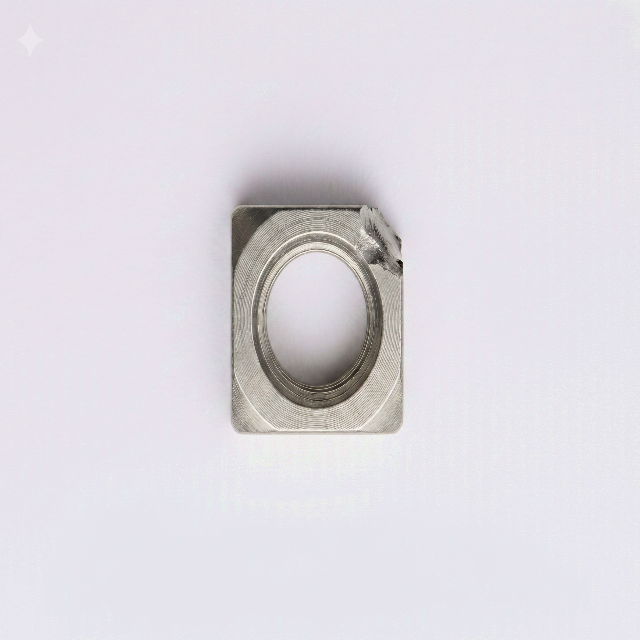defect: (354, 202, 414, 283)
